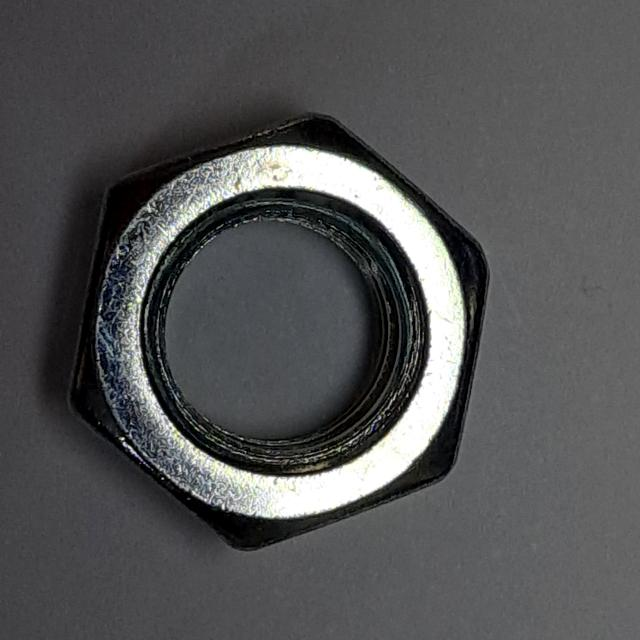Excellent: (53, 96, 506, 567)
